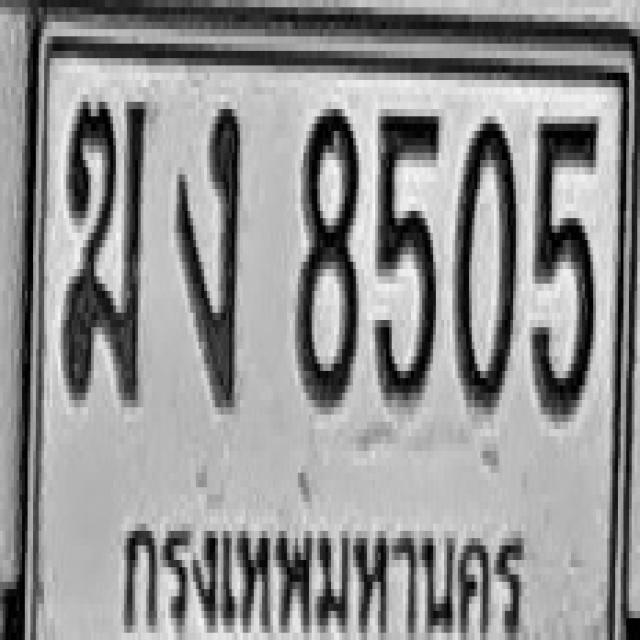0: (452, 113, 516, 411)
15KhorRaKhang: (62, 91, 148, 396)
16NgorNgu: (174, 102, 240, 407)
5: (531, 106, 597, 418), (374, 102, 440, 407)
8: (295, 98, 359, 404)
Bangkok: (107, 496, 530, 640)
